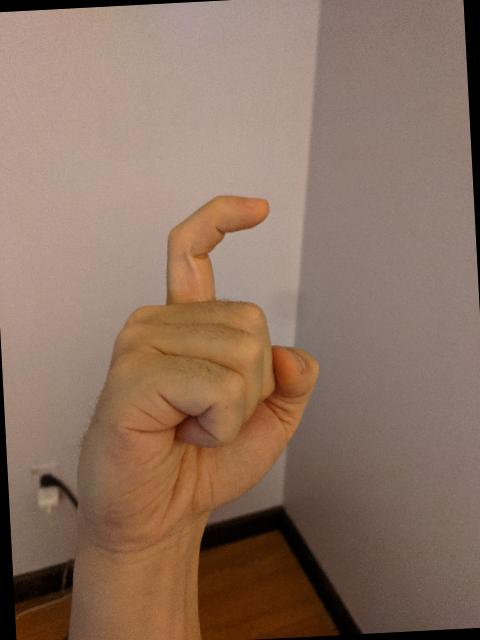X: (48, 188, 333, 547)
